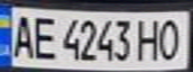2: (78, 16, 100, 62)
3: (112, 16, 136, 62)
4: (57, 15, 81, 61), (96, 16, 115, 62)
A: (6, 11, 39, 60)
E: (30, 12, 60, 61)
H: (133, 16, 163, 62)
O: (157, 15, 187, 62)
